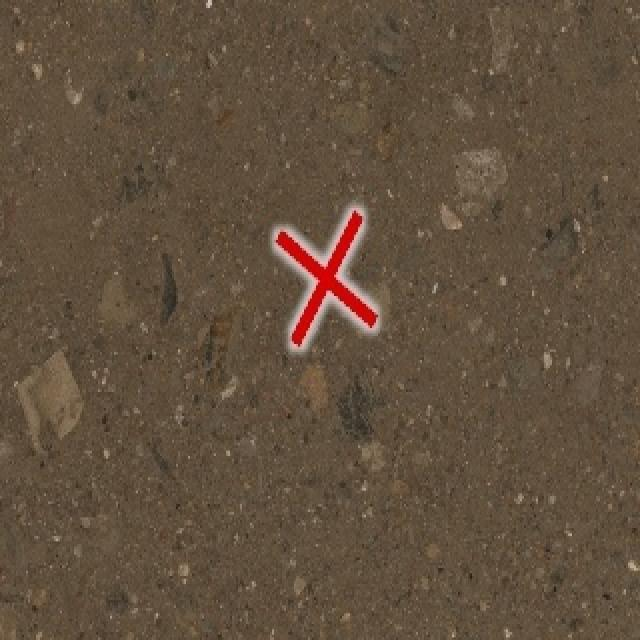x_marker: (275, 210, 375, 346)
